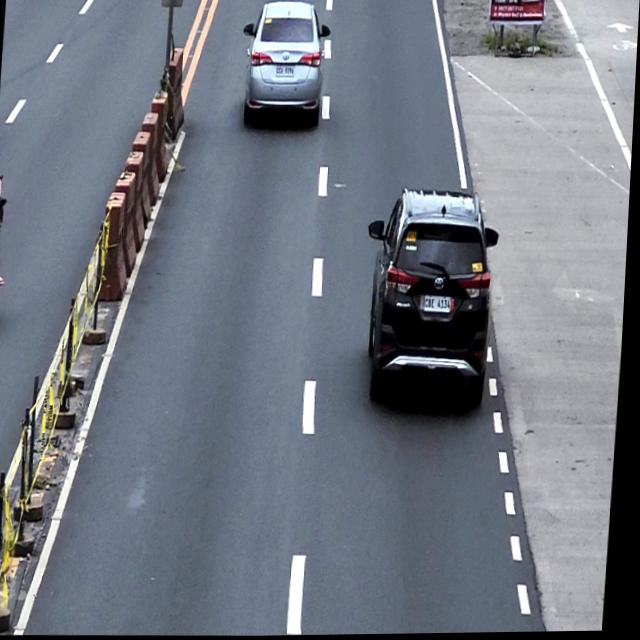Car: (359, 185, 504, 410), (238, 0, 333, 126)
License-Plate: (423, 294, 456, 315), (275, 63, 296, 79)
